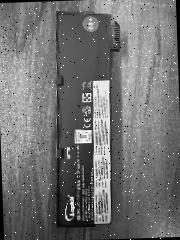electronic: (42, 0, 142, 236)
